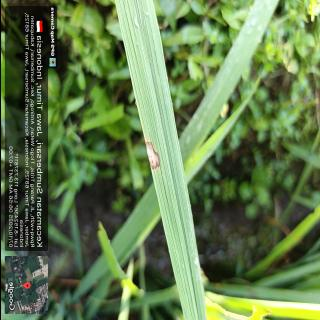Blast: (144, 138, 159, 170)
